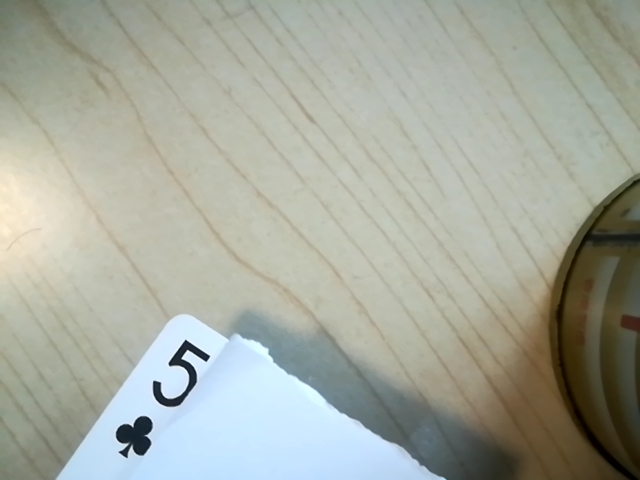mh 5: (114, 339, 215, 463)
